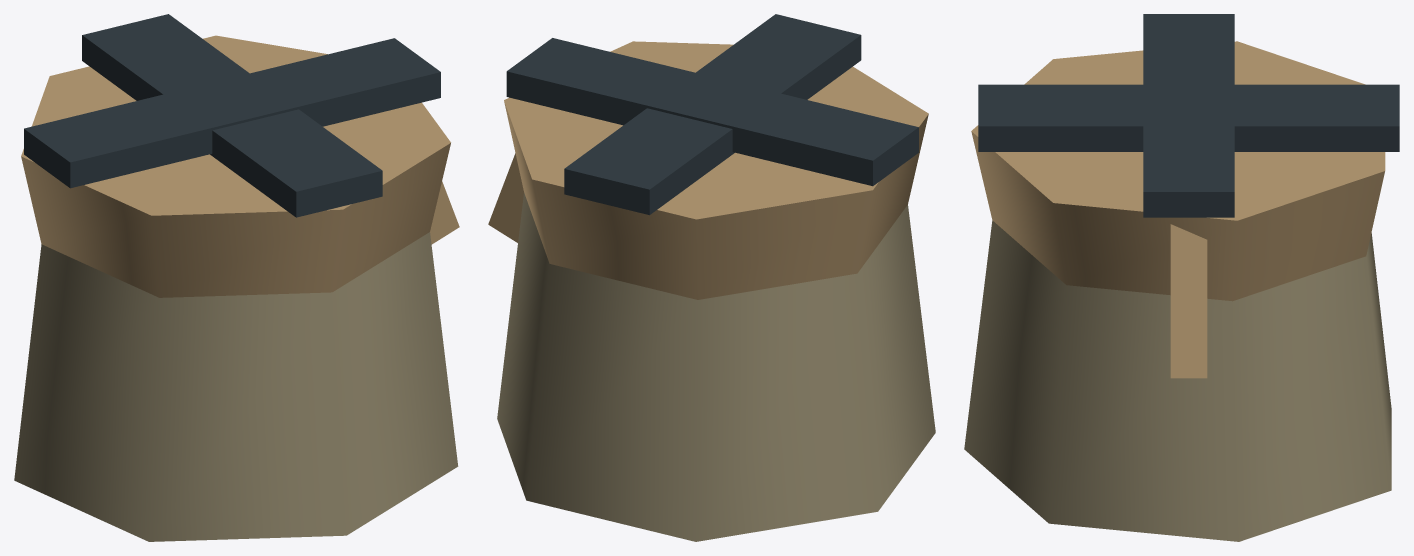
Rendered from fixed-salve-lod1.glb.
3 views of the same model, side by side, from view 1: azimuth 30°, elevation 25°; view 2: azimuth 150°, elevation 25°; view 3: azimuth 270°, elevation 25° (orthographic).
Visible parts, largest first — view 1: piece_whole; view 2: piece_whole; view 3: piece_whole.
Boxes of the visible parts, left/top/right/bottom form: piece_whole: left=14, top=14, right=459, bottom=541; piece_whole: left=488, top=14, right=935, bottom=541; piece_whole: left=964, top=14, right=1399, bottom=541.
Size of the model in its own units: 0.3324 by 0.272 by 0.31.
